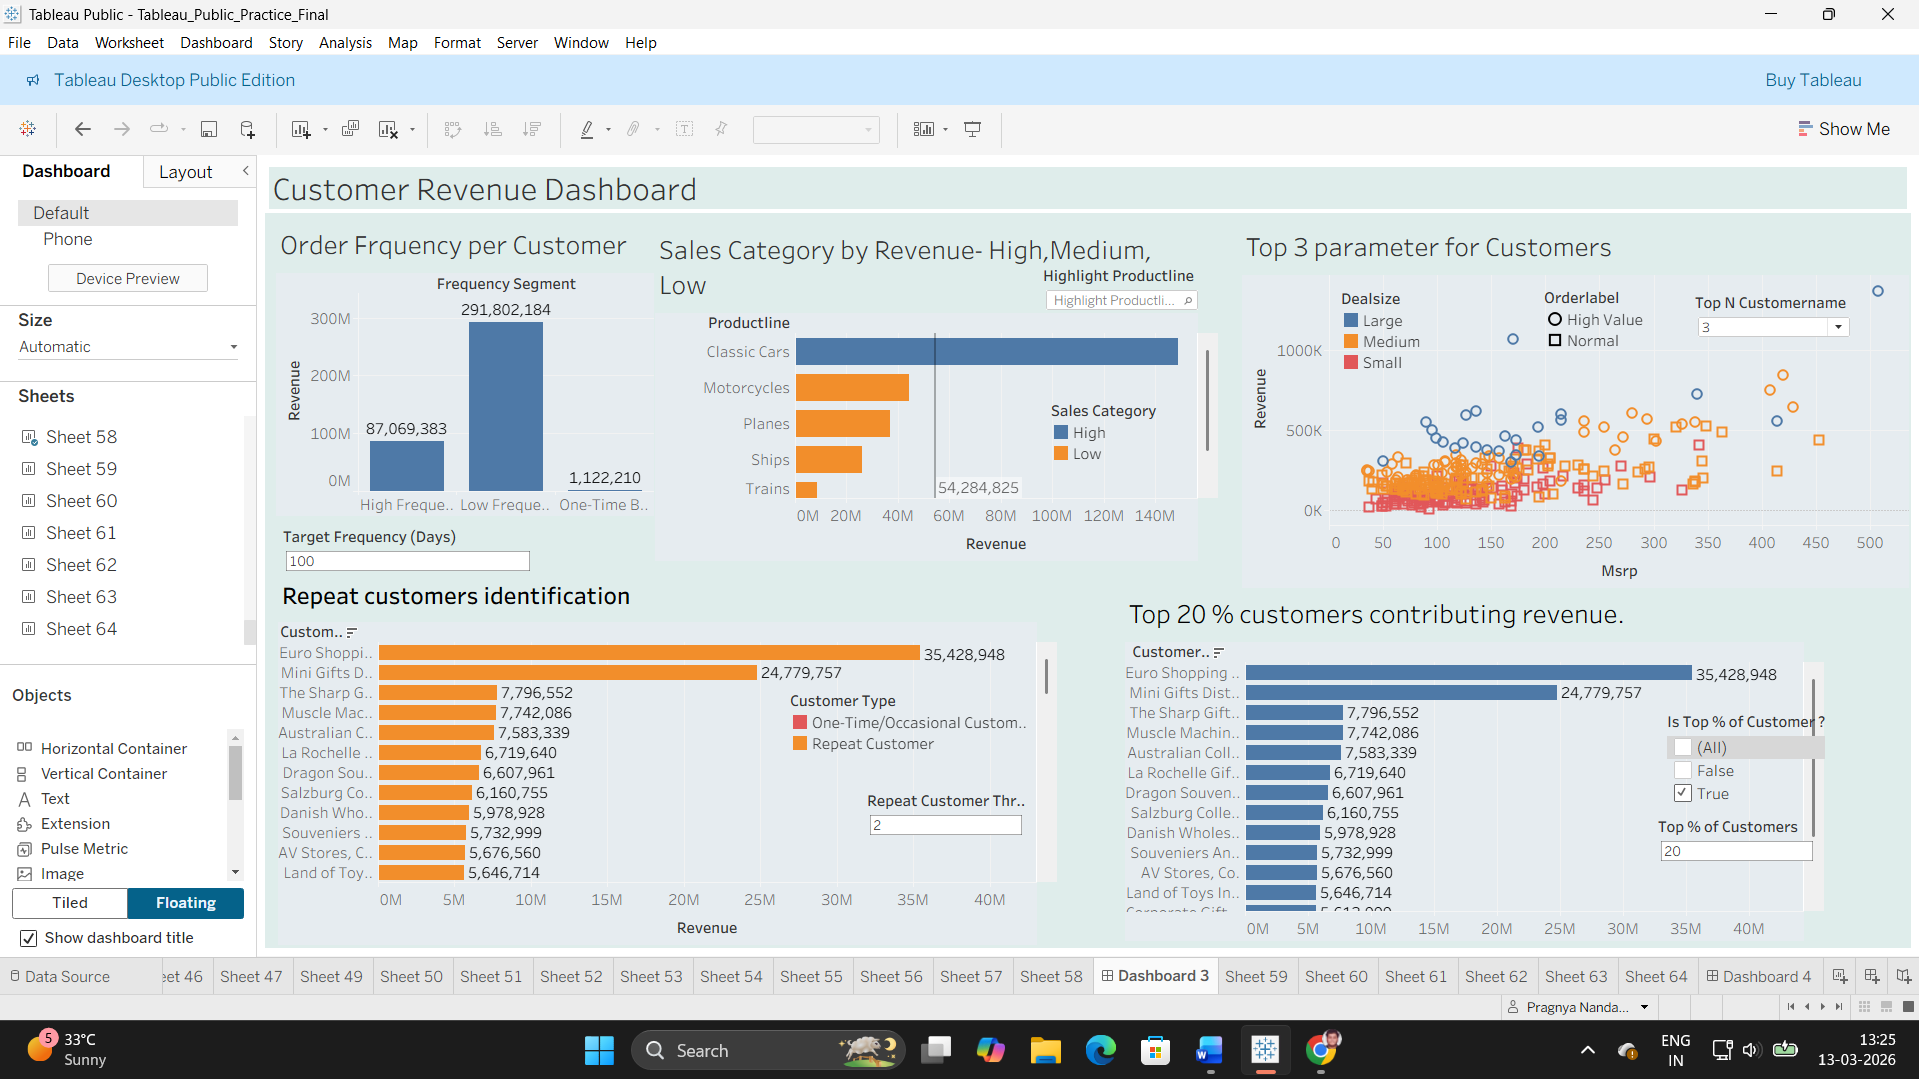

What the dashboard file says about the page in this screenshot:
{"tool":"tableau","page":{"name":"Dashboard 3","canvas":[1000,1000],"units":"permille","ordinal":2},"visuals":[{"type":"title","box":[4.8,10,990.4,62.4]},{"type":"worksheet","title":"Sheet 56","mark":"Automatic","rows":["Calculation_3992920796295169"],"cols":["Calculation_1313964256919558"],"box":[11.3,84.9,227.7,365.8]},{"type":"worksheet","title":"Sheet 58","mark":"Automatic","rows":["Calculation_3992920796295169"],"cols":["MSRP"],"box":[592.4,87.4,401.7,453.2]},{"type":"worksheet","title":"Sheet 40","mark":"Automatic","rows":["PRODUCTLINE"],"cols":["Calculation_3992920796295169"],"box":[239.6,91.1,338.5,415.7]},{"type":"highlighter","title":"Sheet 40","param":"[federated.0wtqqmt0pq1bgl1bef5ex0yiscwp].[none:PRODUCTLINE:nk]","box":[473.2,137.3,95.4,71.2]},{"type":"legend","title":"Sheet 58","param":"[federated.0wtqqmt0pq1bgl1bef5ex0yiscwp].[none:ORDERLABEL:nk]","box":[774.1,164.8,83.4,79.9]},{"type":"legend","title":"Sheet 58","param":"[federated.0wtqqmt0pq1bgl1bef5ex0yiscwp].[none:DEALSIZE:nk]","box":[652,166,83.4,106.1]},{"type":"parameter","param":"[Parameters].[Parameter 1]","box":[865.3,171,95.4,59.9]},{"type":"legend","title":"Sheet 40","param":"[federated.0wtqqmt0pq1bgl1bef5ex0yiscwp].[usr:Calculation_1327157998809088:nk:4]","box":[477.9,305.9,83.4,79.9]},{"type":"parameter","param":"[Parameters].[Parameter 6]","box":[15.5,463.2,150.2,59.9]},{"type":"worksheet","title":"Sheet 55","mark":"Automatic","rows":["CUSTOMERNAME"],"cols":["Calculation_3992920796295169"],"box":[12.5,524.3,510.1,461.9]},{"type":"worksheet","title":"Sheet 57","mark":"Automatic","rows":["CUSTOMERNAME"],"cols":["Calculation_3992920796295169"],"box":[522,545.6,464.8,435.7]},{"type":"legend","title":"Sheet 55","param":"[federated.0wtqqmt0pq1bgl1bef5ex0yiscwp].[none:Calculation_1313964250312707:nk]","box":[320.6,667.9,147.8,79.9]},{"type":"filter","title":"Sheet 57","param":"[federated.0wtqqmt0pq1bgl1bef5ex0yiscwp].[usr:Calculation_1313964258693127:nk:1]","box":[848.5,694.1,95.4,121.1]},{"type":"parameter","param":"[Parameters].[Parameter 5]","box":[367.1,792.8,95.4,59.9]},{"type":"parameter","param":"[Parameters].[Parameter 7]","box":[842.7,825.2,95.4,59.9]}]}

Visuals, with their boxes on the dashboard's canvas, which has no fixed pixel size, in thousandths of its width and height (x1, y1, x2, y2). These are canvas units, not pixel positions in the 1919x1079 screenshot, which may show the page scaled, cropped or inside an application window:
title: locate(5, 10, 995, 72)
"Sheet 56" worksheet: locate(11, 85, 239, 451)
"Sheet 58" worksheet: locate(592, 87, 994, 541)
"Sheet 40" worksheet: locate(240, 91, 578, 507)
"Sheet 40" highlighter: locate(473, 137, 569, 208)
"Sheet 58" legend: locate(774, 165, 858, 245)
"Sheet 58" legend: locate(652, 166, 735, 272)
parameter: locate(865, 171, 961, 231)
"Sheet 40" legend: locate(478, 306, 561, 386)
parameter: locate(16, 463, 166, 523)
"Sheet 55" worksheet: locate(12, 524, 523, 986)
"Sheet 57" worksheet: locate(522, 546, 987, 981)
"Sheet 55" legend: locate(321, 668, 468, 748)
"Sheet 57" filter: locate(848, 694, 944, 815)
parameter: locate(367, 793, 462, 853)
parameter: locate(843, 825, 938, 885)
